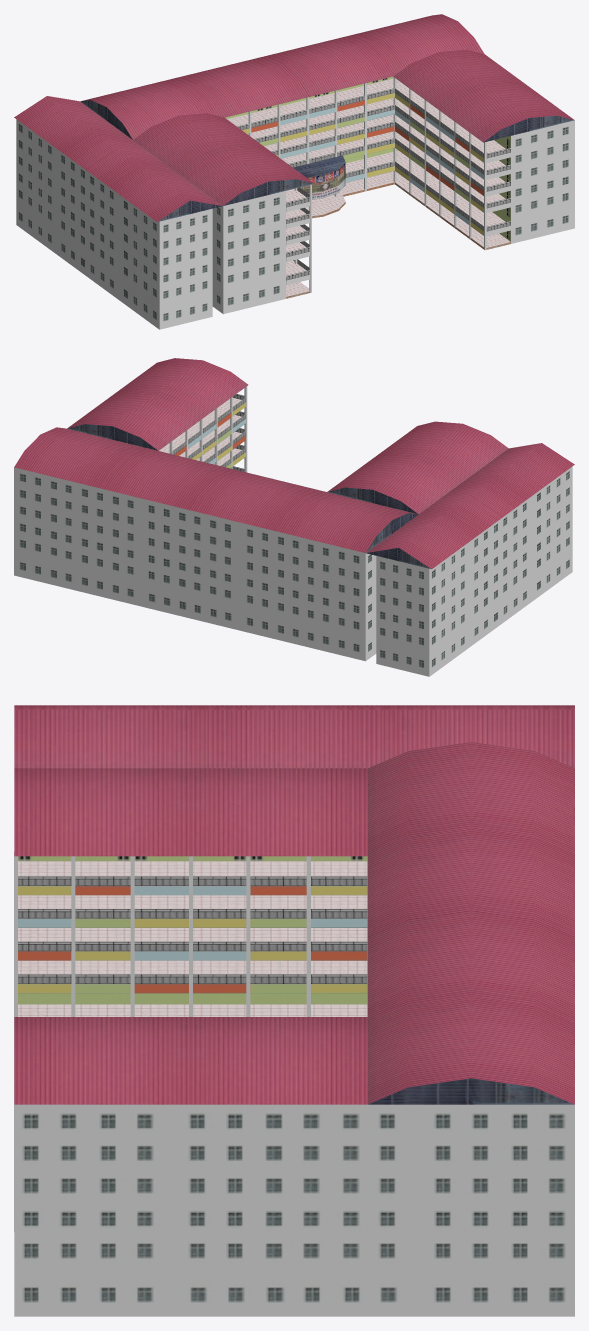
3 renders of one model, top to bottom at view 1: azimuth 30°, elevation 25°; view 2: azimuth 150°, elevation 25°; view 3: azimuth 270°, elevation 25°, orthographic. The views are drawn at different scales.
Visible parts, largest first — view 1: HN882__Thang_Long_Kidsmart_Preschool; view 2: HN882__Thang_Long_Kidsmart_Preschool; view 3: HN882__Thang_Long_Kidsmart_Preschool.
Boxes of the visible parts, x1=… form: HN882__Thang_Long_Kidsmart_Preschool: x1=14, y1=14, x2=574, y2=329; HN882__Thang_Long_Kidsmart_Preschool: x1=14, y1=358, x2=574, y2=676; HN882__Thang_Long_Kidsmart_Preschool: x1=14, y1=705, x2=574, y2=1316.
Size of the model in its own units: 80.86 by 22.5 by 48.
1 material, 1 textured.
